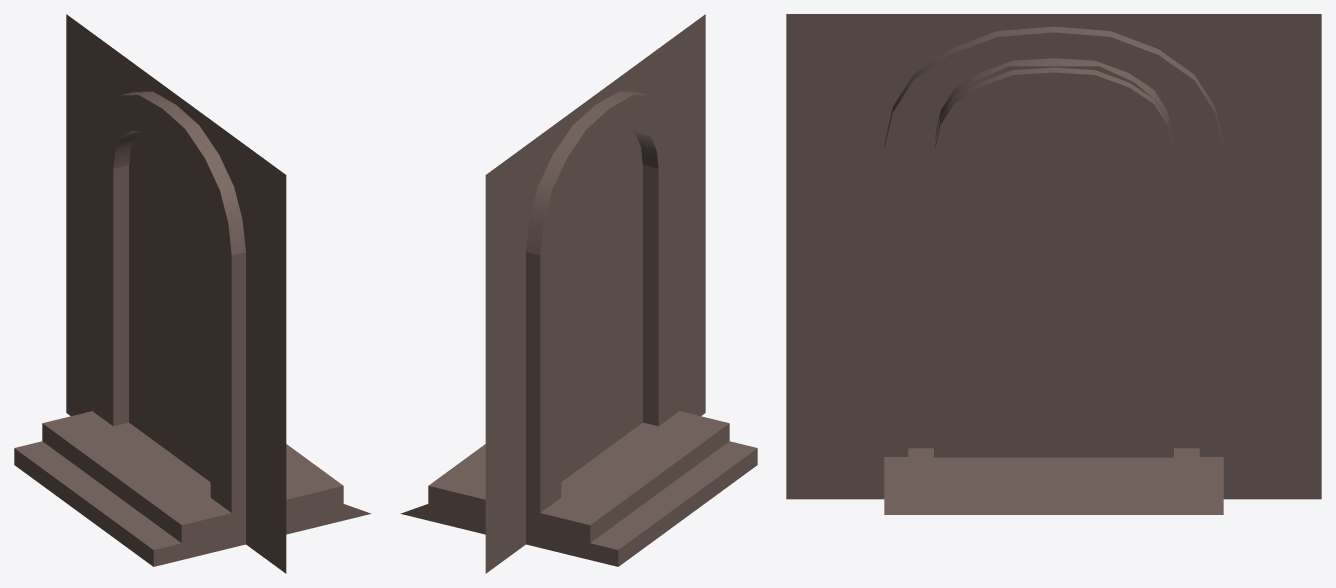
Rendered from Building_door_00.fbx.
3 views of the same model, side by side, from view 1: azimuth 30°, elevation 25°; view 2: azimuth 150°, elevation 25°; view 3: azimuth 270°, elevation 25° (orthographic). The views are drawn at different scales.
Visible parts, largest first — view 1: Building_door_00; view 2: Building_door_00; view 3: Building_door_00.
Boxes of the visible parts, box(x1,y1,x2,y2) form: Building_door_00: box(14, 14, 371, 573); Building_door_00: box(400, 14, 757, 573); Building_door_00: box(786, 14, 1321, 514).
Bounding box in the file's own units: 1.72 × 3 × 3.
